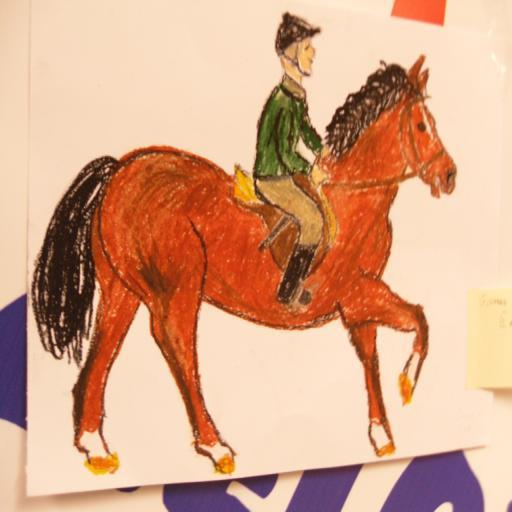horse: (29, 54, 457, 476)
